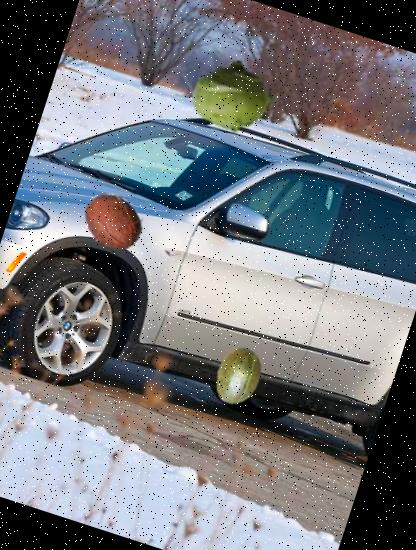Cocos: (76, 180, 154, 260)
Kohlrabi: (180, 42, 288, 150)
Melon: (202, 339, 276, 413)
